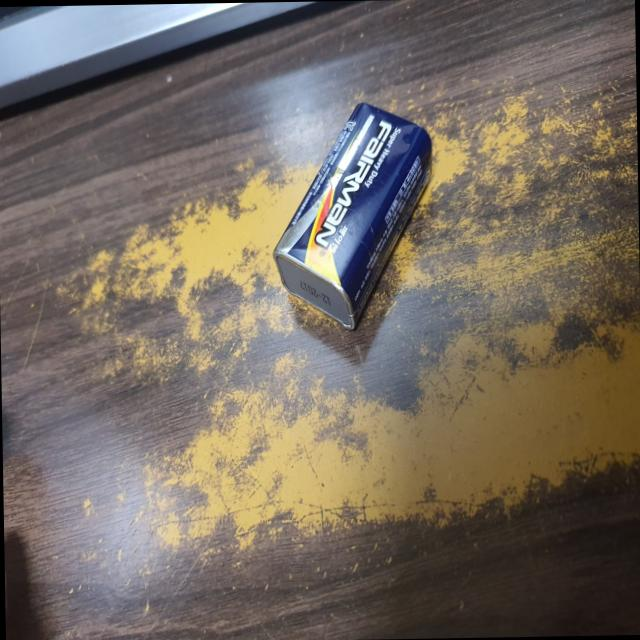battery-etc-etc: (266, 94, 450, 332)
